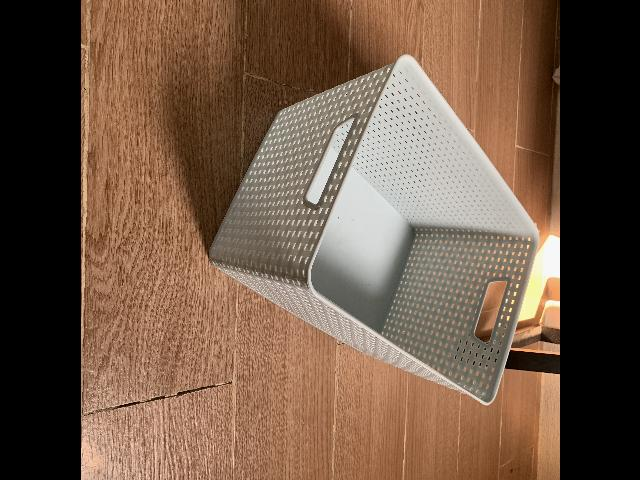cart: (205, 54, 538, 405)
